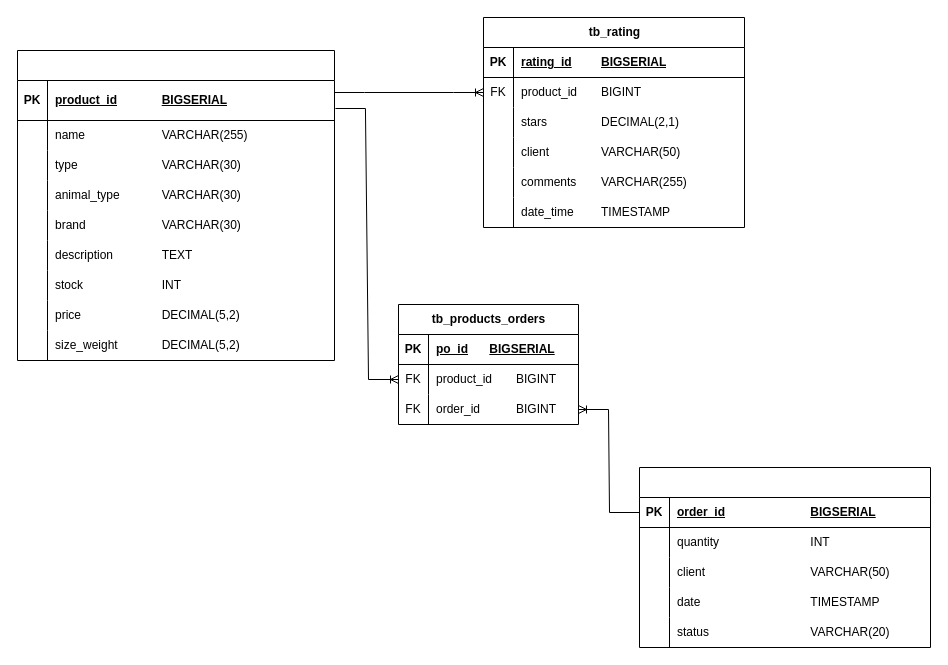
This 948x665 diagram has some shape labels left out. Here are the shapes that lost their labels. From the top down, the box of each, then its label:
(16, 50, 334, 360): tb_products
(638, 466, 930, 648): tb_orders
